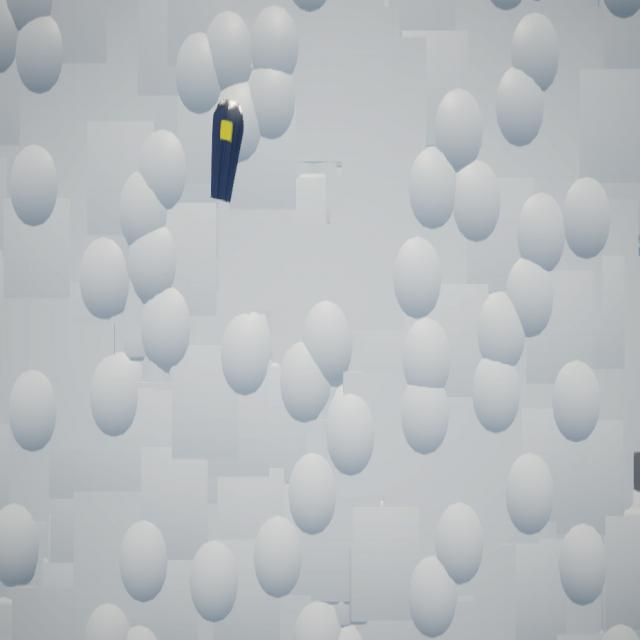handle_folk: (212, 100, 245, 204)
